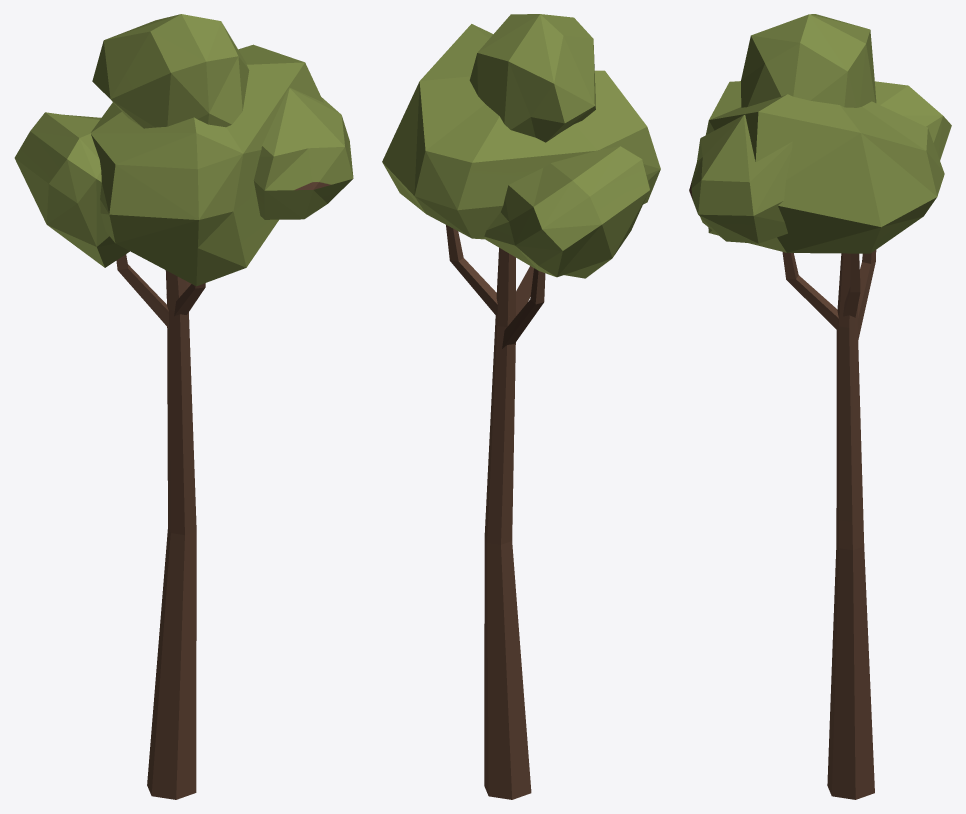
Rendered from tree9.glb.
3 views of the same model, side by side, from view 1: azimuth 30°, elevation 25°; view 2: azimuth 150°, elevation 25°; view 3: azimuth 270°, elevation 25° (orthographic). The views are drawn at different scales.
Visible parts, largest first — view 1: tree19; view 2: tree19; view 3: tree19.
Boxes of the visible parts, x1,y1,x2,y2 form: tree19: (14, 14, 353, 799); tree19: (382, 14, 660, 799); tree19: (689, 14, 951, 799).
Bounding box in the file's own units: 2.25 × 6.48 × 2.
1 material, 1 textured.
